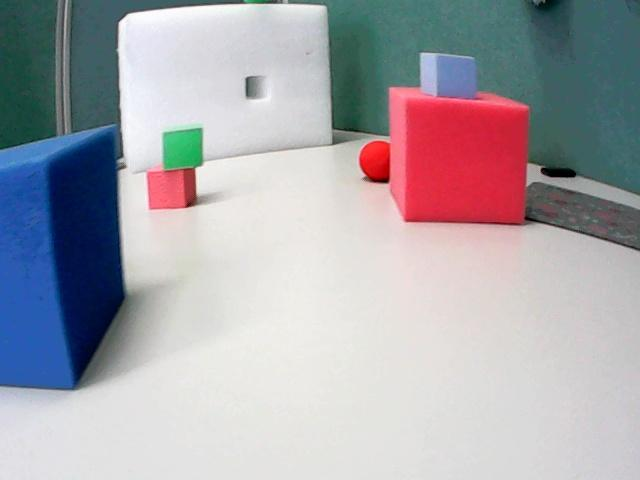blue_block: (0, 127, 123, 388), (420, 53, 476, 98)
red_block: (390, 88, 528, 223), (147, 165, 195, 209)
